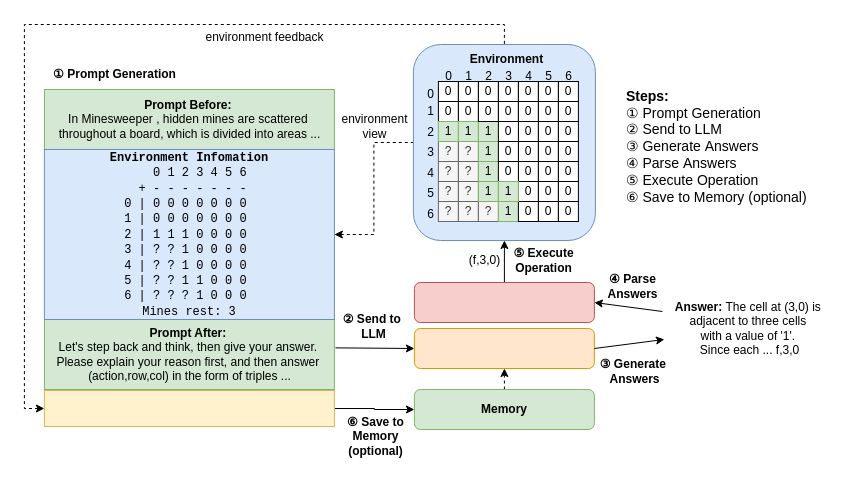
Some shapes in this 852 by 484 pixel diagram are drawn without their labels. Each missing label, with the centre of its shape:
Large Language Model: point 503,348
Regex Parser: point 503,302
Result: add flag: point 188,408
